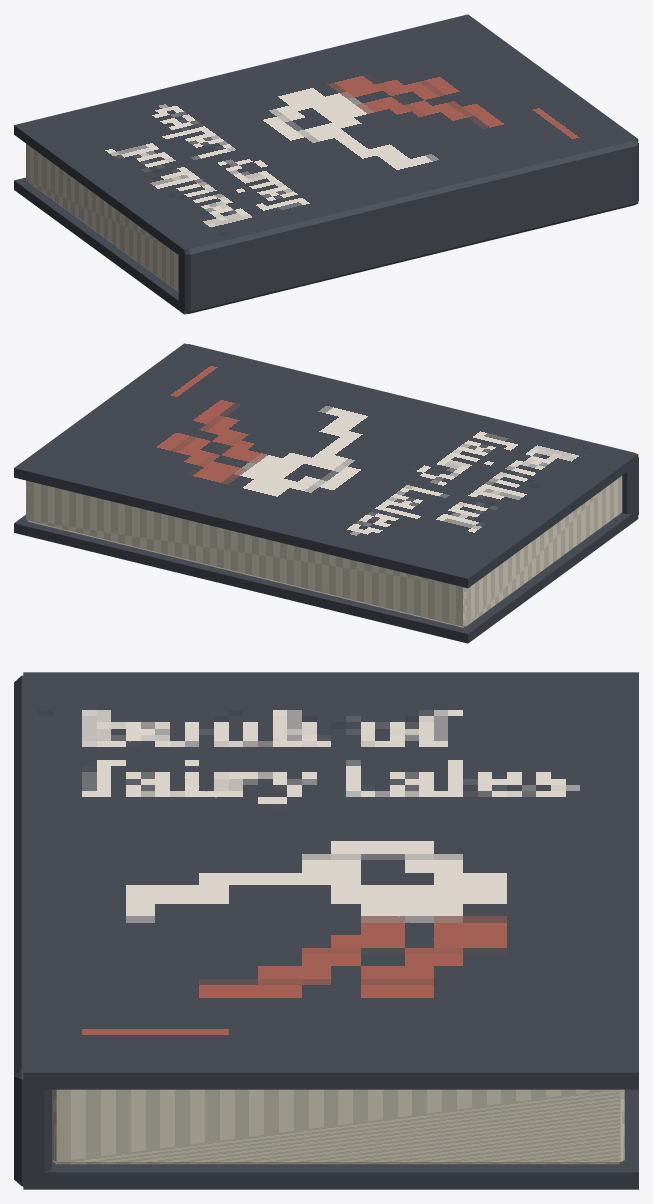
File: fairy_tales.glb
3 renders of one model, top to bottom at view 1: azimuth 30°, elevation 25°; view 2: azimuth 150°, elevation 25°; view 3: azimuth 270°, elevation 25°, orthographic. The views are drawn at different scales.
Visible parts, largest first — view 1: block_front, block_spine, block_pages, block_back; view 2: block_front, block_pages, block_back, block_spine; view 3: block_front, block_pages, block_back, block_spine.
Boxes of the visible parts, <box> form: block_front: <box>14,14,638,258</box>; block_spine: <box>178,136,638,313</box>; block_pages: <box>26,143,178,291</box>; block_back: <box>14,177,638,314</box>; block_front: <box>14,343,638,588</box>; block_pages: <box>26,476,622,627</box>; block_back: <box>14,510,638,643</box>; block_spine: <box>182,344,638,514</box>; block_front: <box>23,672,638,1089</box>; block_pages: <box>52,1089,624,1164</box>; block_back: <box>23,1089,638,1189</box>; block_spine: <box>14,675,51,1186</box>.
Bounding box in the file's own units: 0.2 × 0.0272 × 0.132.
Materials: 1 (1 with a texture image).
